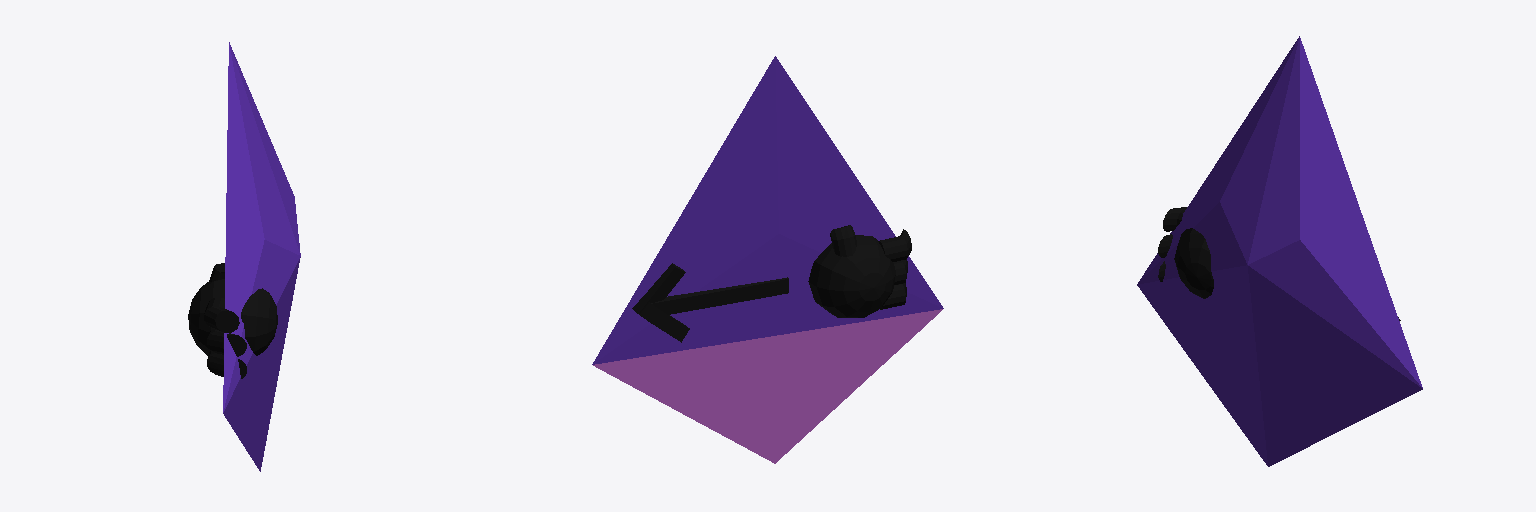
The model's file is DowngradeBackPunch.obj.
3 renders of one model, left to right at view 1: azimuth 30°, elevation 25°; view 2: azimuth 150°, elevation 25°; view 3: azimuth 270°, elevation 25°, orthographic.
Parts seen in each view (by area): view 1: group[number redacted], group[number redacted], group[number redacted], group[number redacted]; view 2: group[number redacted], group[number redacted], group[number redacted], group[number redacted], group[number redacted]; view 3: group[number redacted], group[number redacted].
Boxes of the visible parts, x1=… form: group[number redacted]: x1=223, y1=42, x2=300, y2=471; group[number redacted]: x1=188, y1=279, x2=277, y2=355; group[number redacted]: x1=204, y1=297, x2=239, y2=332; group[number redacted]: x1=207, y1=329, x2=246, y2=356; group[number redacted]: x1=592, y1=56, x2=943, y2=463; group[number redacted]: x1=808, y1=235, x2=895, y2=317; group[number redacted]: x1=632, y1=263, x2=788, y2=342; group[number redacted]: x1=878, y1=229, x2=911, y2=261; group[number redacted]: x1=830, y1=225, x2=856, y2=256; group[number redacted]: x1=1137, y1=36, x2=1422, y2=466; group[number redacted]: x1=1174, y1=228, x2=1213, y2=298.
Bounding box in the file's own units: 0.2935 × 0.5684 × 0.3481.